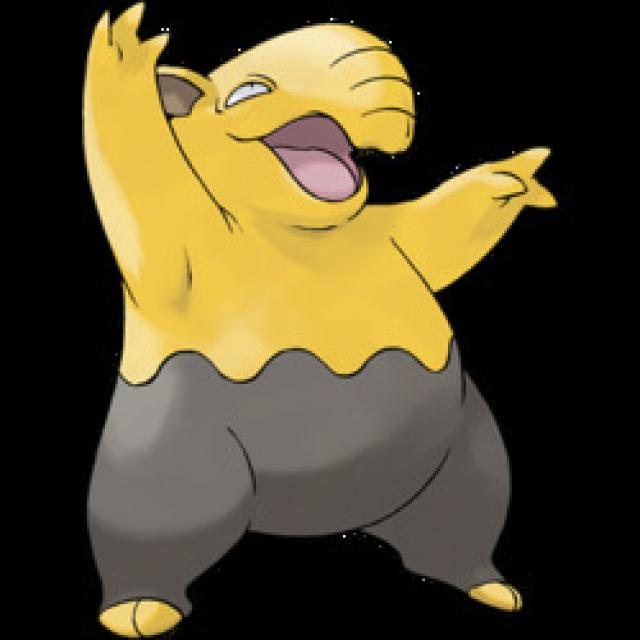Drowzee: (65, 15, 548, 623)
